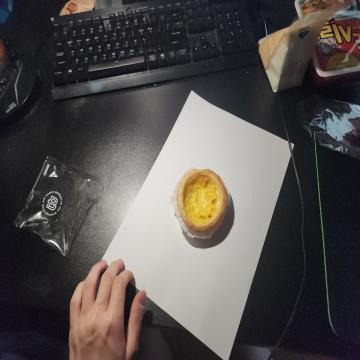EggTart: (176, 167, 228, 234)
